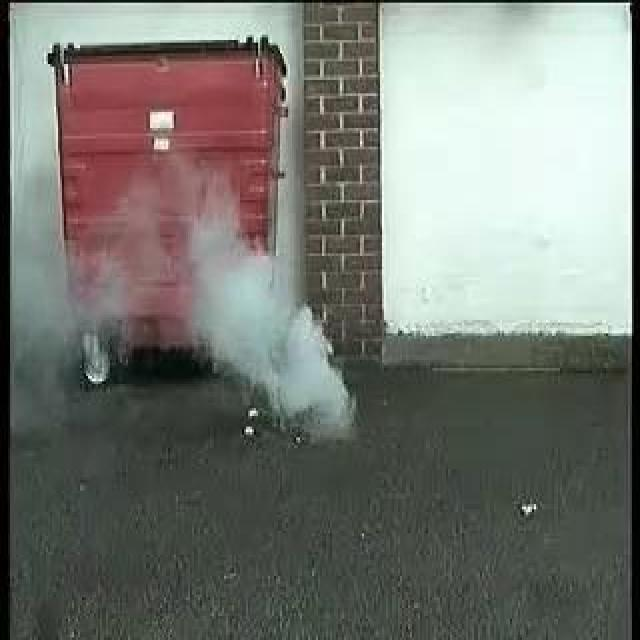Smoke: (164, 189, 358, 443)
